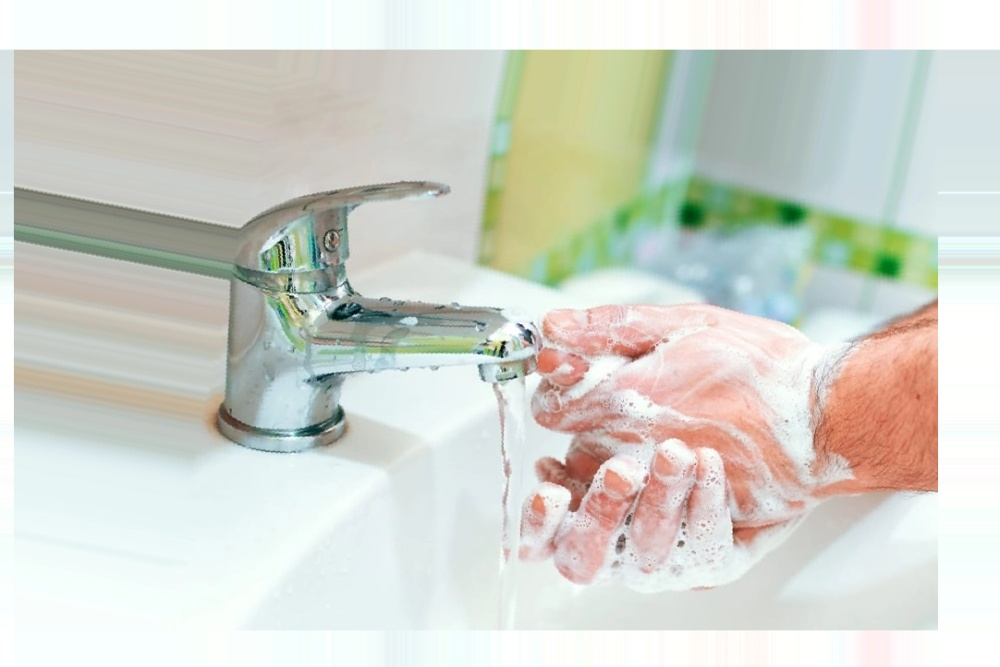washing hand: (197, 141, 858, 666)
